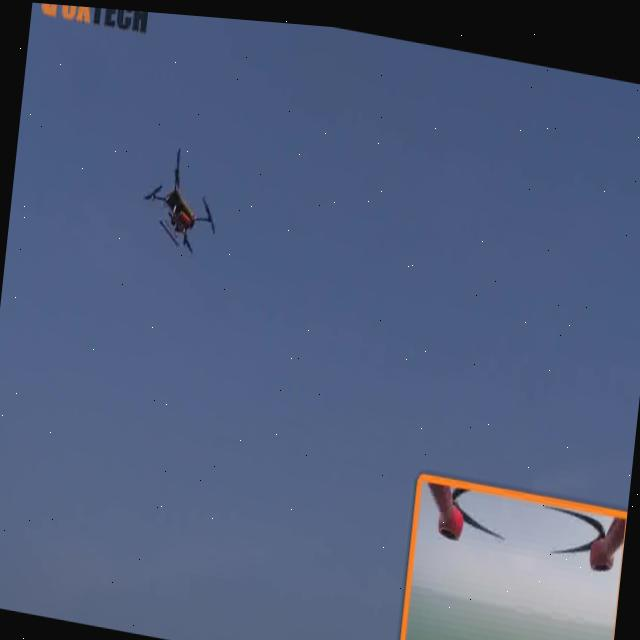drone: (136, 120, 229, 273)
